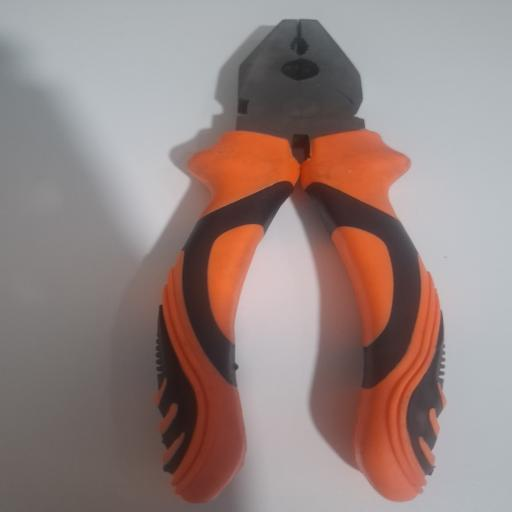alicate: (149, 17, 449, 512)
